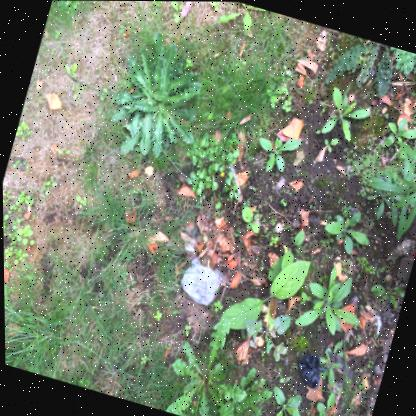Plastic: (179, 256, 226, 305), (297, 353, 327, 388), (183, 225, 199, 262)
